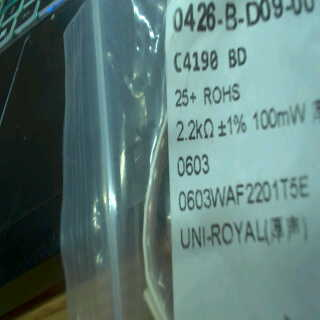2.2kR: (172, 114, 216, 147)
